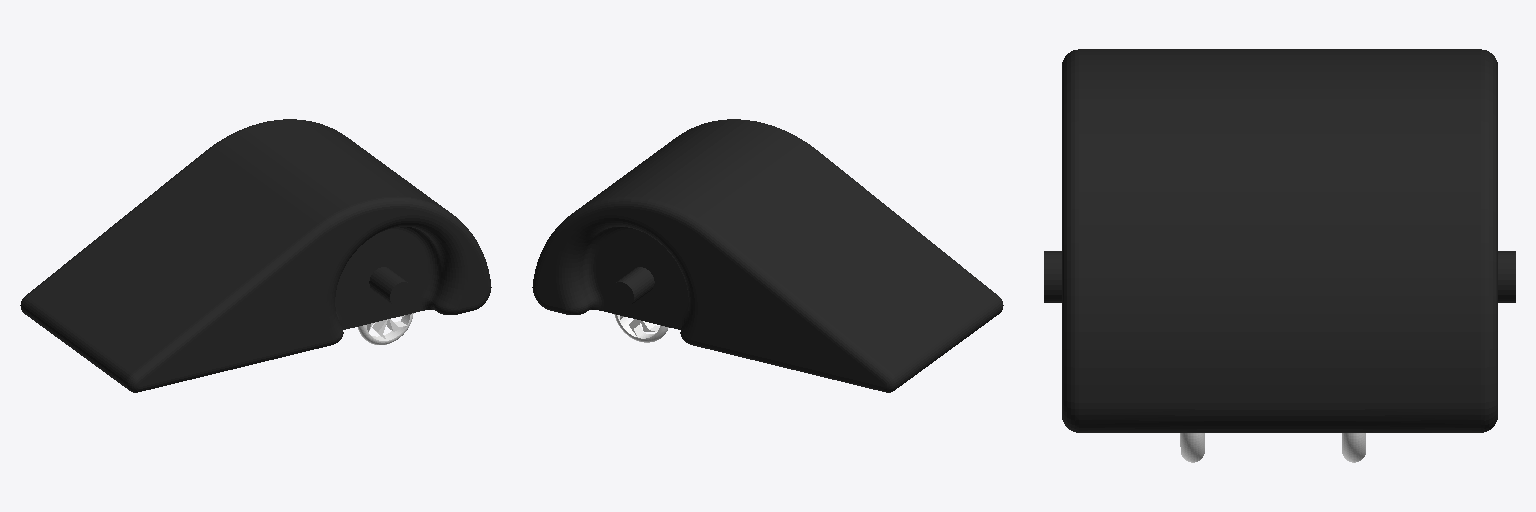
The robot description file, URDF, robot "robot":
<robot name="robot">
    <link name="base_footprint"/>
    <link name="base">
      <inertial>
        <mass value="2" />
        <origin xyz="0 0 0.1" rpy="0 0 0" />
        <inertia ixx="0.00355" iyy="0.01265" izz="0.013832" ixy="0.0" ixz="0.0" iyz="0.0" />
      </inertial>
      <visual>
        <geometry>
            <mesh filename="package://final/meshes/base_link.stl"/>
        </geometry>
        <material name="gray">
          <color rgba=".2 .2 .2 1" />
        </material>
      </visual>
      <collision>
        <geometry>
          <mesh filename="package://final/meshes/base_link.stl"/>
      </geometry>
        <contact_coefficients mu="1" mu2="1" kp="1e+13.0" kd="1.0"/>
      </collision>
    </link>
   <joint name="base_joint" type="fixed">
      <parent link="base_footprint"/>
      <child link="base"/>
      <origin rpy="0 0 0" xyz="0 0 0"/>
    </joint>
 <link name="wheel_right">
    <inertial>
      <mass value="0.75"/>
      <inertia ixx="0.001444223" iyy="0.00280875" izz="0.001444223" ixy="0.0" ixz="0.0" iyz="0.0"/>
      <origin/>
    </inertial>
      <visual>
        <geometry>
            <mesh filename="package://final/meshes/wheel_r_PR.stl"/>
        </geometry>
        <material name="white">
          <color rgba="1 1 1 1"/>
        </material>
      </visual>
      <collision>
        <geometry>
            <mesh filename="package://final/meshes/wheel_r_PR.stl"/>
        </geometry>
        <contact_coefficients mu="0" kp="1000.0" kd="1.0"/>
      </collision>
    </link>
    <joint name="wheel_right_joint" type="continuous">
      <origin xyz="0.09 0.085 0.04  " rpy="0 0.0 0.0"/>
      <parent link="base"/>
      <child link="wheel_right"/>
      <axis xyz="0.0 -1.0 0"/>
    </joint>
    <link name="wheel_left">
      <inertial>
        <mass value="0.75"/>
        <inertia ixx="0.001444223" iyy="0.00280875" izz="0.001444223" ixy="0.0" ixz="0.0" iyz="0.0" />
        <origin/>
      </inertial>
      <visual>
        <geometry>
            <mesh filename="package://final/meshes/wheel_l_PR.stl"/>
        </geometry>
        <material name="white">
          <color rgba="1 1 1 1"/>
        </material>
      </visual>
      <collision>
        <geometry>
            <mesh filename="package://final/meshes/wheel_l_PR.stl"/>
        </geometry>
        <contact_coefficients mu="0" kp="1000.0" kd="1.0"/>
      </collision>
    </link>
    <joint name="wheel_left_joint" type="continuous">
      <origin xyz="0.09 -0.1 0.04" rpy="0 0.0 3.14"/>
      <parent link="base"/>
      <child link="wheel_left"/>
      <axis xyz="0.0 1 0"/>
    </joint>
    <link name="caster">
      <inertial>
        <mass value="0.75"/>
        <inertia ixx="0.0001295" iyy="0.0001295" izz="0.000199322" ixy="0.0" ixz="0.0" iyz="0.0" />
        <origin/>
      </inertial>
      <visual>
        <geometry>
          <mesh filename="package://final/meshes/front_caster.stl"/>
      </geometry>
        <material name="black" />
      </visual>
      <collision>
        <geometry>
          <mesh filename="package://final/meshes/front_caster.stl"/>
      </geometry>
        <contact_coefficients mu="0" kp="1000.0" kd="1.0"/>
      </collision>
    </link>
    <joint name="caster_joint" type="continuous">
      <origin xyz="-0.14 -0.007 -0.03" rpy="0.0 0.0 0.0"/>
      <axis xyz="0 0 1" />
      <parent link="base"/>
      <child link="caster"/>
    </joint>
  <link name="camera_link">
  </link>
  <joint name="camera_joint" type="fixed">
    <origin xyz="-0.16 0.0 0.08" rpy="0 0.0 3.14"/>
    <parent link="base"/>
    <child link="camera_link"/>
    <axis xyz="0.0 0.0 1.0"/>
</joint>
    <gazebo reference="camera_link">
        <sensor type="camera" name="bot_camera">
          <update_rate>30.0</update_rate>
          <camera name="head">
            <horizontal_fov>1.3962634</horizontal_fov>
            <image>
              <width>800</width>
              <height>800</height>
              <format>R8G8B8</format>
            </image>
            <clip>
              <near>0.02</near>
              <far>300</far>
            </clip>
            <noise>
              <type>gaussian</type>
              <mean>0.0</mean>
              <stddev>0.007</stddev>
            </noise>
          </camera>
          <plugin name="camera_controller" filename="libgazebo_ros_camera.so">
            <alwaysOn>true</alwaysOn>
            <updateRate>0.0</updateRate>
            <cameraName>/bot_camera</cameraName>
            <imageTopicName>image_raw</imageTopicName>
            <cameraInfoTopicName>camera_info</cameraInfoTopicName>
            <frameName>camera_link</frameName>
            <hackBaseline>0.07</hackBaseline>
          </plugin>
        </sensor>
        <material>Gazebo/Blue</material>
      </gazebo>
    <gazebo>
      <plugin filename="libgazebo_ros_diff_drive.so" name="gazebo_base_controller">
        <odometry_frame>odom</odometry_frame>
        <commandTopic>cmd_vel</commandTopic>
        <publish_odom>true</publish_odom>
        <publish_odom_tf>true</publish_odom_tf>
        <update_rate>15.0</update_rate>
        <left_joint>wheel_left_joint</left_joint>
        <right_joint>wheel_right_joint</right_joint>
        <wheel_separation>0.8</wheel_separation>
        <wheel_diameter>0.3</wheel_diameter>
        <max_wheel_acceleration>0.7</max_wheel_acceleration>
        <robotBaseFrame>base</robotBaseFrame>
  
      </plugin>
    </gazebo>


  <gazebo reference="base">
      <material>Gazebo/Black</material>
    </gazebo>
    <gazebo reference="caster">
      <material>Gazebo/White</material>
    </gazebo>
    
    <gazebo reference="wheel_right">
      <material>Gazebo/Orange</material>
    </gazebo>
    <gazebo reference="wheel_left">
      <material>Gazebo/Orange</material>
    </gazebo>  







  </robot>
  

--- What the picture shows (computed from the rendered views, not written in the file) ---
The picture shows the robot from 3 angles, left to right: view 1: azimuth 30°, elevation 25°; view 2: azimuth 150°, elevation 25°; view 3: azimuth 270°, elevation 25°; orthographic projection.
Robot: robot — 6 links, 5 joints (3 continuous, 2 fixed); root link base_footprint; default pose: every joint at zero.
Visible links, largest first — view 1: base, wheel_left; view 2: base, wheel_right; view 3: base, wheel_left, wheel_right.
Boxes of the visible links, bbox=[...] form: base: bbox=[20, 119, 491, 392]; wheel_left: bbox=[358, 313, 413, 344]; base: bbox=[532, 119, 1003, 392]; wheel_right: bbox=[614, 314, 668, 342]; base: bbox=[1044, 49, 1515, 432]; wheel_left: bbox=[1180, 433, 1204, 462]; wheel_right: bbox=[1342, 433, 1365, 462].
Size in the robot's own frame: 0.9233 by 0.54 by 0.4319 metres.
Meshes: 4 distinct files referenced, 4 mesh visuals loaded (4 binary STL).